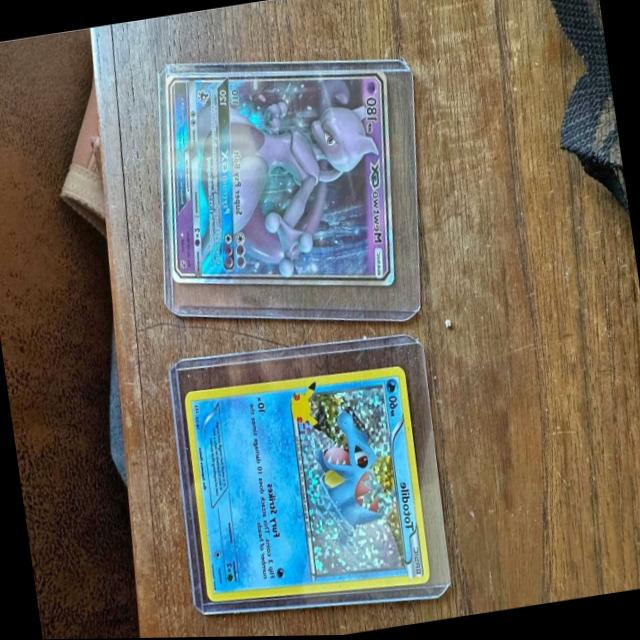card: (183, 366, 430, 604), (163, 69, 395, 288)
